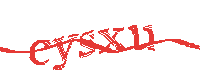c: (29, 36, 52, 68)
s: (79, 28, 95, 59)
u: (129, 19, 158, 52)
x: (97, 25, 126, 56)
y: (49, 33, 79, 70)
